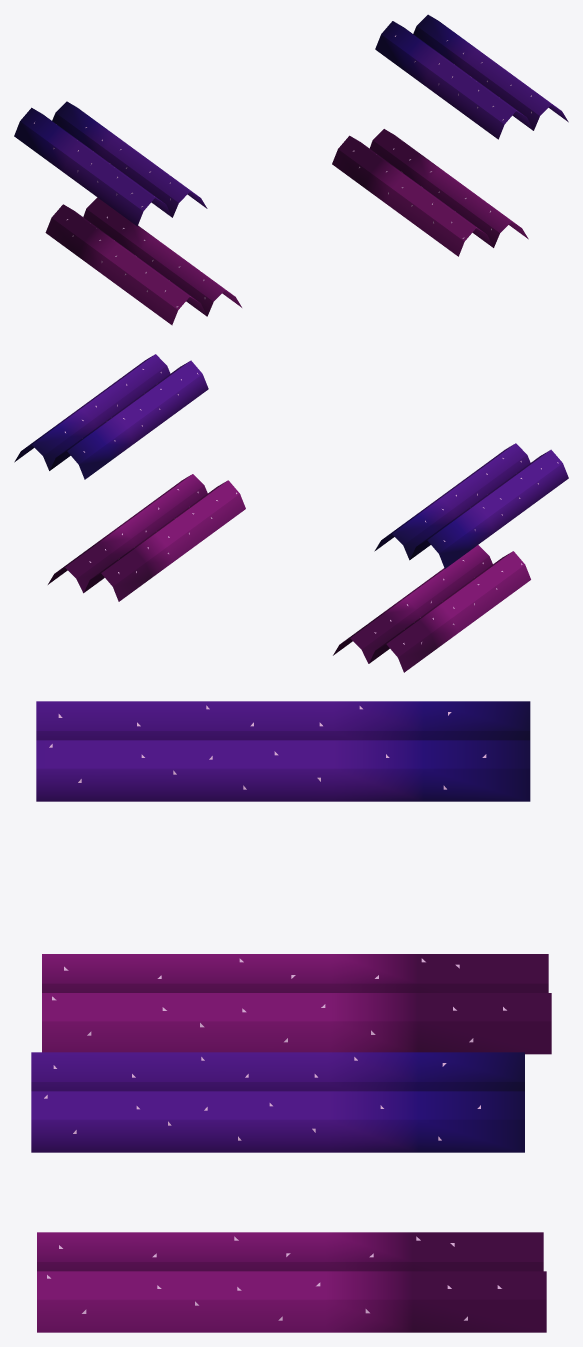
Rendered from RDMACurtains.fbx.
The picture shows the model from 3 angles, top to bottom: view 1: azimuth 30°, elevation 25°; view 2: azimuth 150°, elevation 25°; view 3: azimuth 270°, elevation 25°; orthographic projection. The views are drawn at different scales.
Parts seen in each view (by area): view 1: RDMACurtains; view 2: RDMACurtains; view 3: RDMACurtains.
Part boxes in pixels (bbox=[...]): RDMACurtains: bbox=[14, 14, 568, 325]; RDMACurtains: bbox=[14, 354, 568, 672]; RDMACurtains: bbox=[31, 701, 551, 1332].
Bounding box in the file's own units: 453 × 134 × 237.
